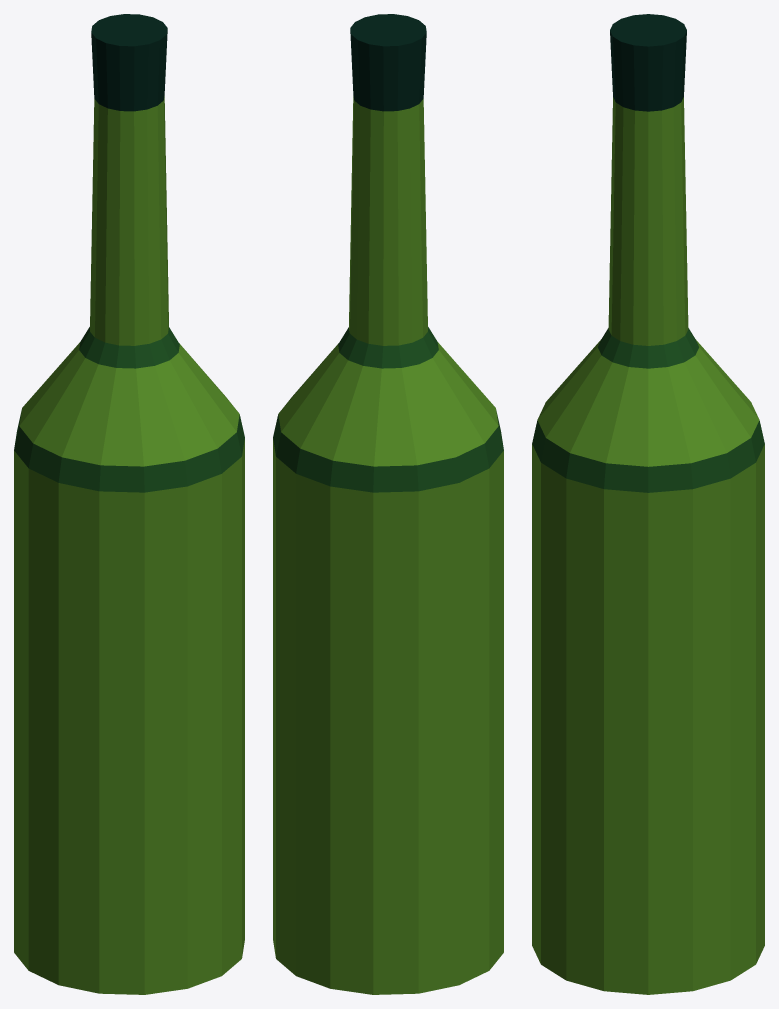
File: GlassBottle_01.fbx
3 renders of one model, left to right at view 1: azimuth 30°, elevation 25°; view 2: azimuth 150°, elevation 25°; view 3: azimuth 270°, elevation 25°, orthographic.
Visible parts, largest first — view 1: GlassBottle_01; view 2: GlassBottle_01; view 3: GlassBottle_01.
Part boxes in pixels (box(x1,y1,x2,y2)): GlassBottle_01: box(14, 14, 244, 994); GlassBottle_01: box(273, 14, 503, 994); GlassBottle_01: box(532, 14, 764, 994).
Size of the model in its own units: 15.27 by 66.27 by 15.27.
